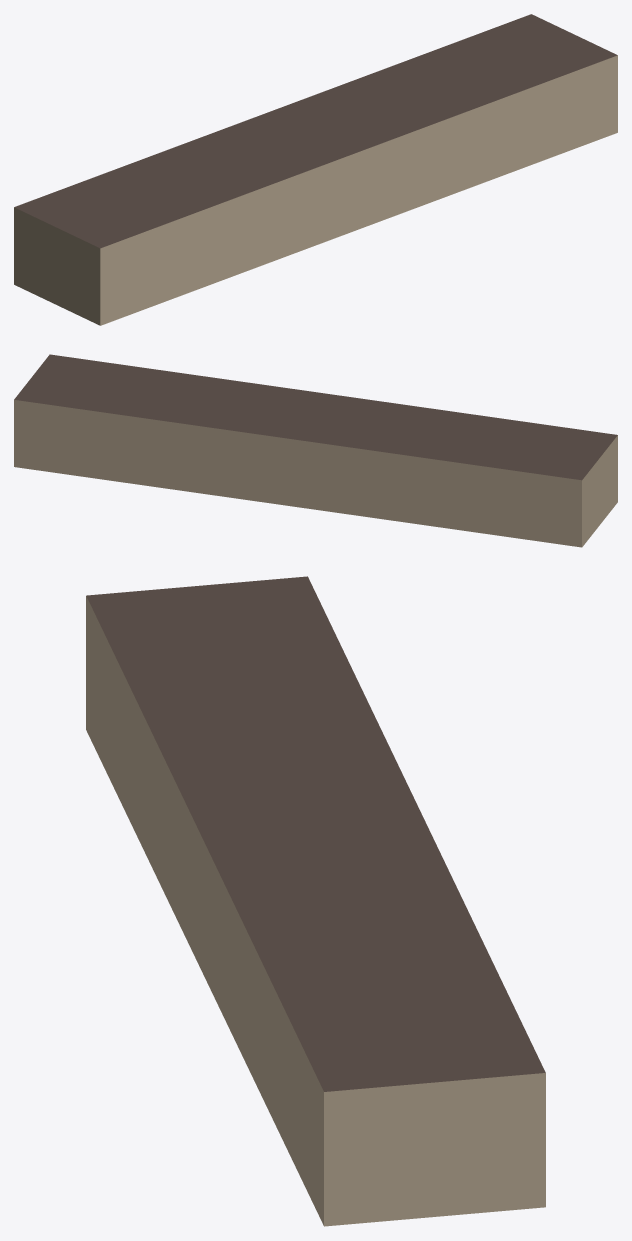
The picture shows the model from 3 angles, top to bottom: view 1: azimuth 30°, elevation 25°; view 2: azimuth 150°, elevation 25°; view 3: azimuth 270°, elevation 25°; orthographic projection. The views are drawn at different scales.
Visible parts, largest first — view 1: HP-w859457389; view 2: HP-w859457389; view 3: HP-w859457389.
Part boxes in pixels (x1=…): HP-w859457389: x1=14, y1=14, x2=617, y2=325; HP-w859457389: x1=14, y1=354, x2=617, y2=547; HP-w859457389: x1=86, y1=576, x2=545, y2=1226.
Size of the model in its own units: 74.01 by 9 by 27.88.
